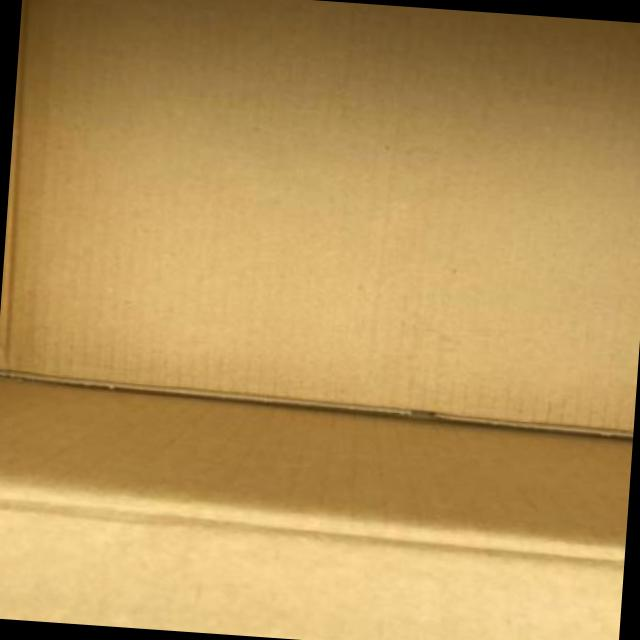cardboard paper: (0, 0, 640, 428), (0, 379, 633, 640)
